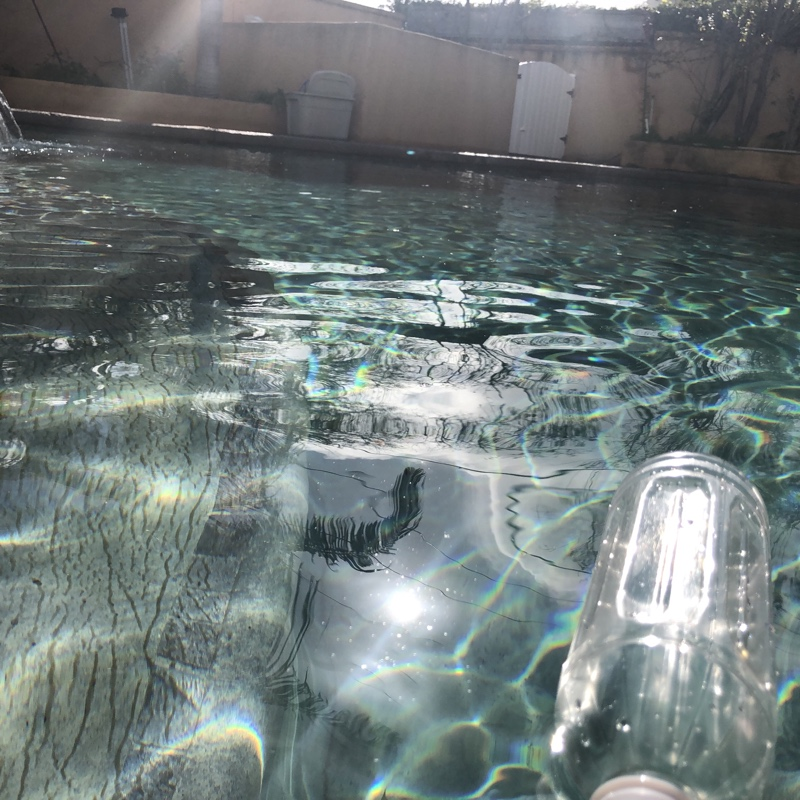Plastic Bottle: (534, 444, 792, 800)
